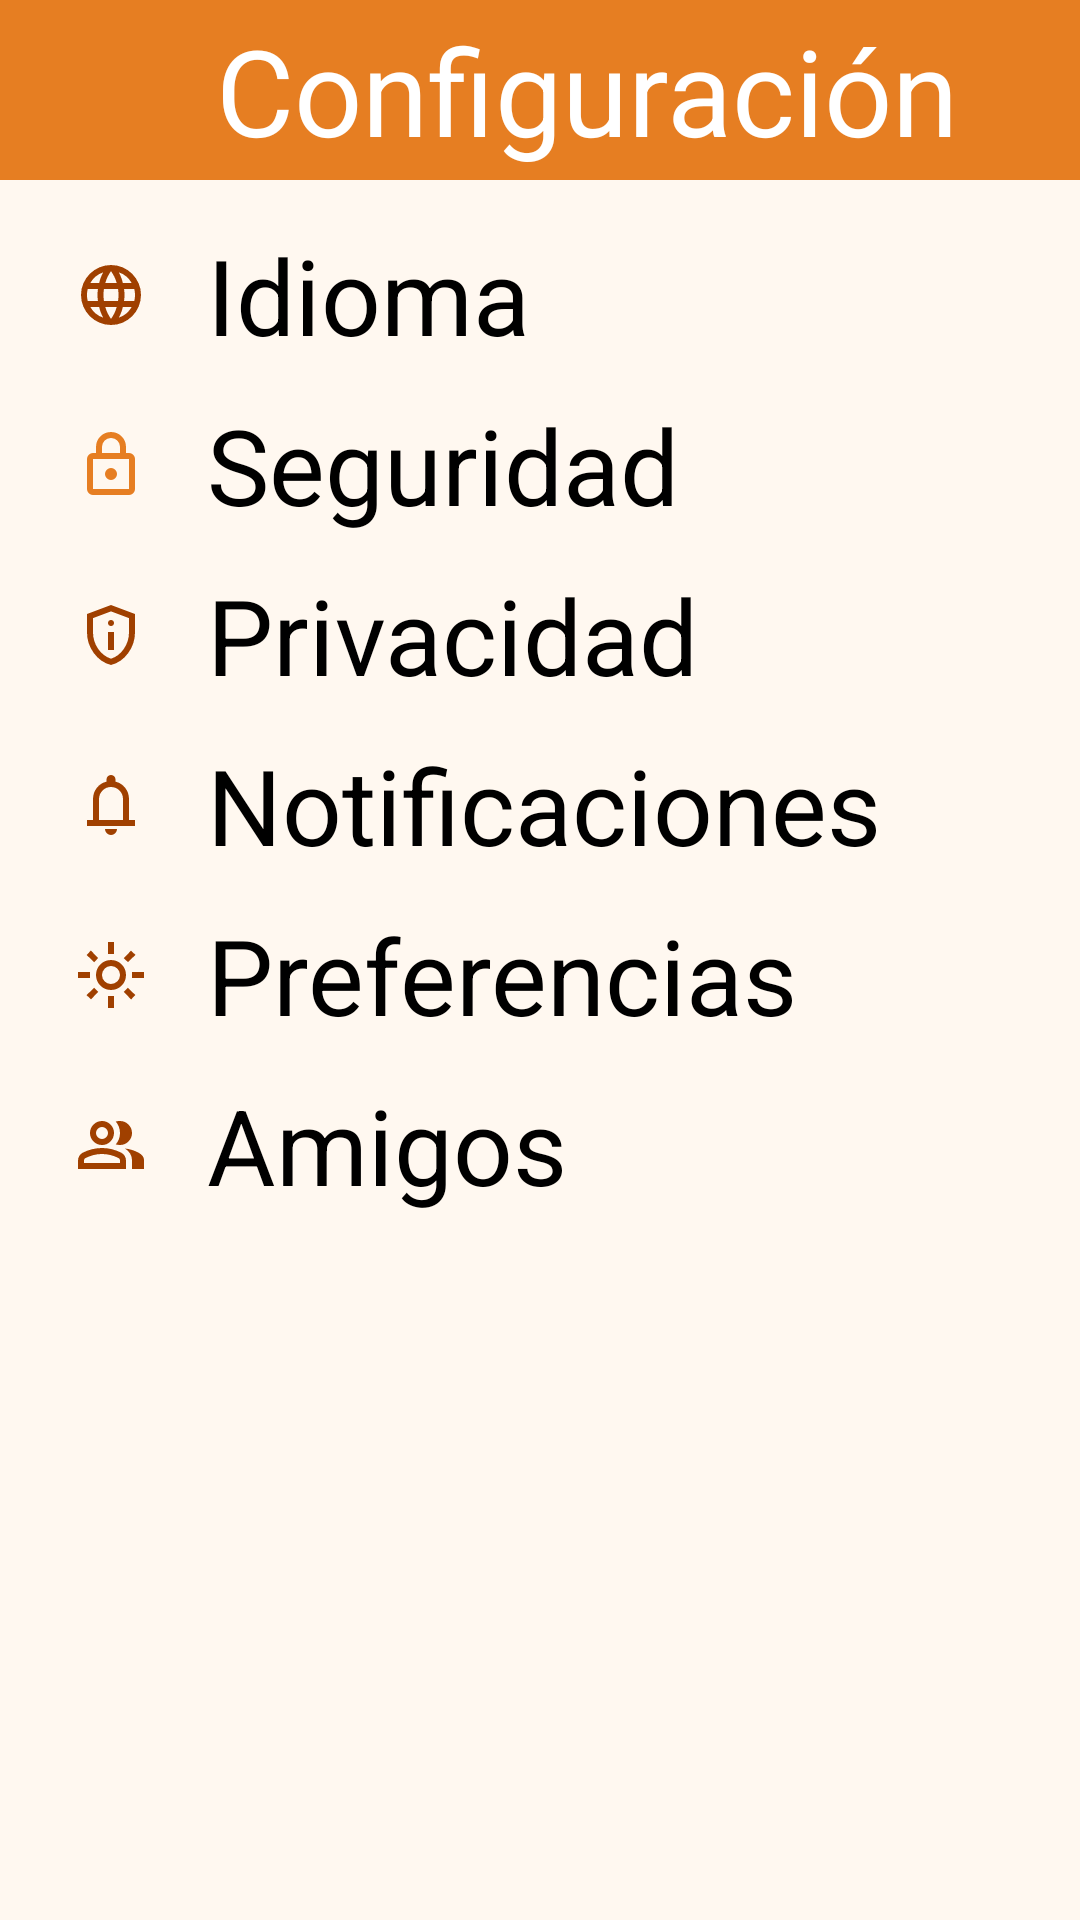

Screen size 1080w x 1920h. Icon name, then its box in pixels as BBox(x1, y1, x2, y2):
icono de candado: BBox(87, 432, 135, 495)
icono de notificacion: BBox(87, 775, 135, 835)
icono de preferencia: BBox(78, 942, 144, 1008)
